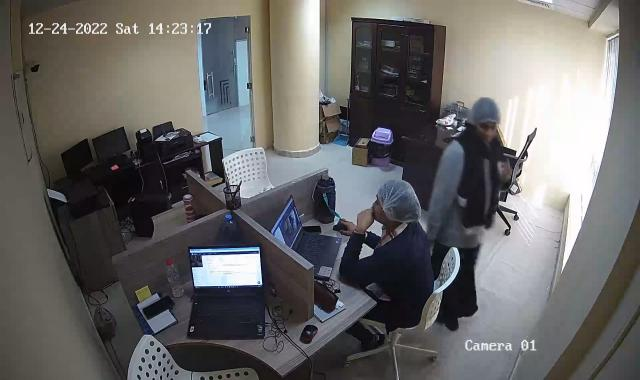hairnet: (376, 180, 421, 228), (466, 99, 503, 139)
